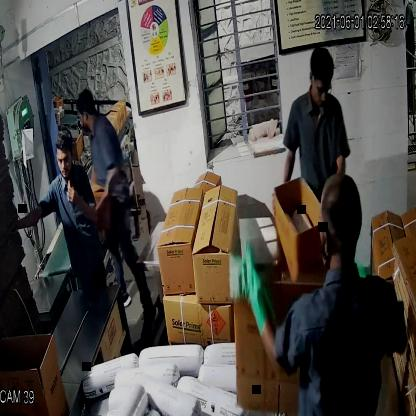no_goggles: (52, 147, 76, 171)
